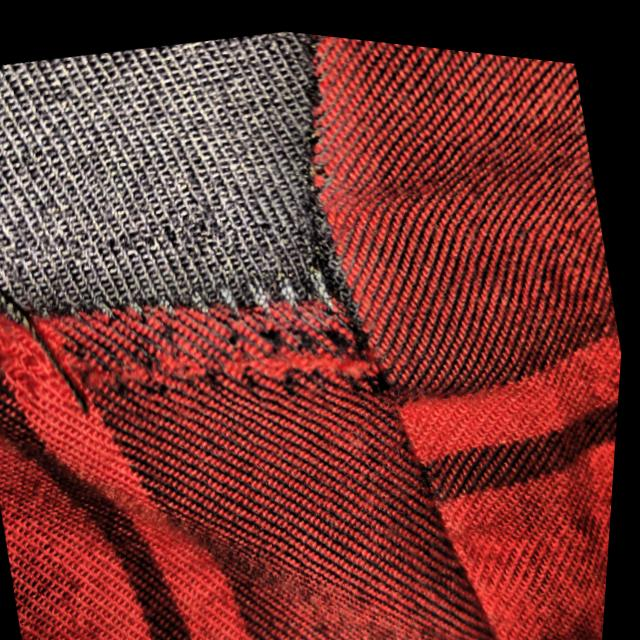Stitch: (0, 171, 415, 484)
